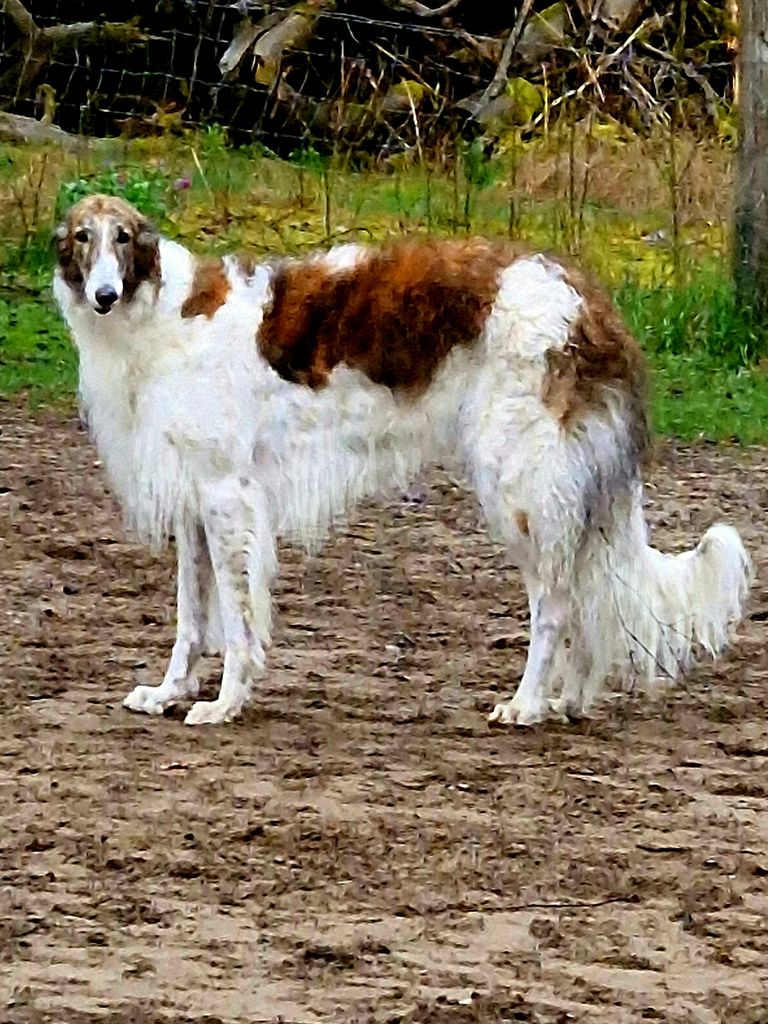borzoi: (30, 184, 761, 727)
